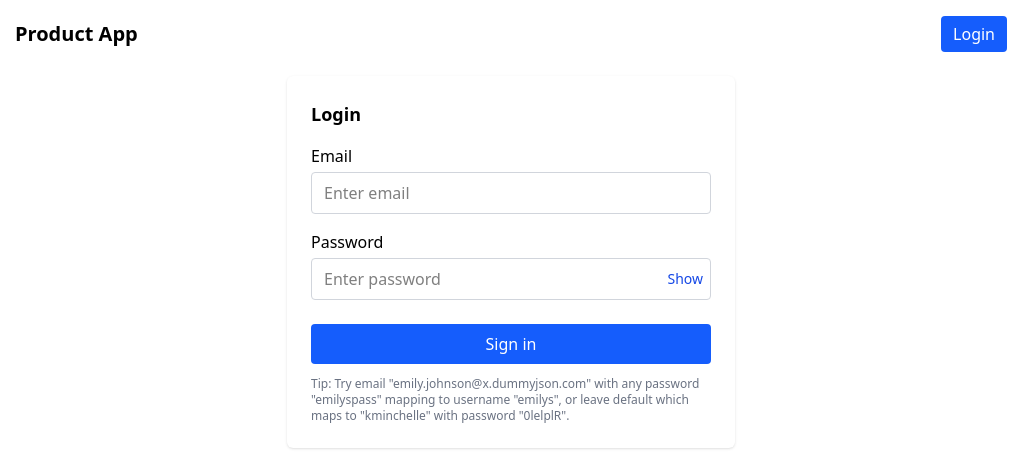
Test case: Login page › toggles password visibility
Type "123456" into the password field named "password" at (511, 279), box 311,258 -> 711,300
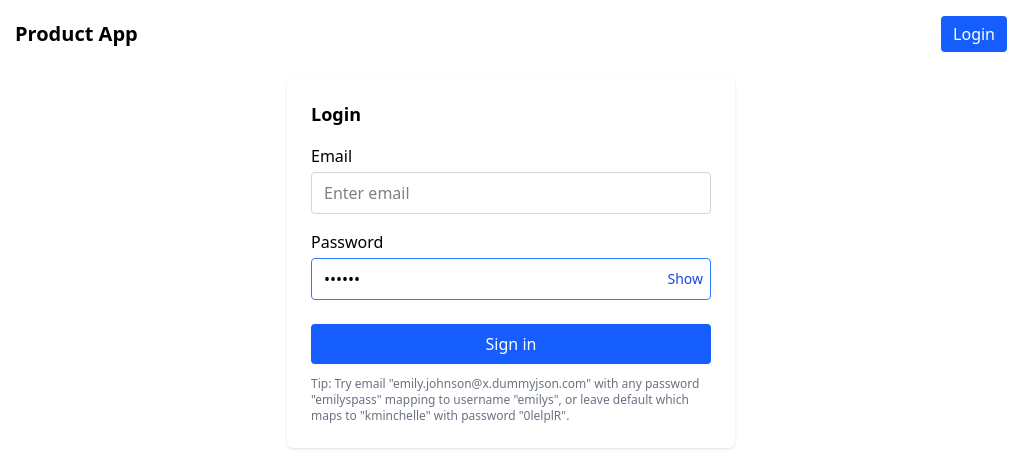
Click the button "Show" at (686, 279), box 668,269 -> 704,289
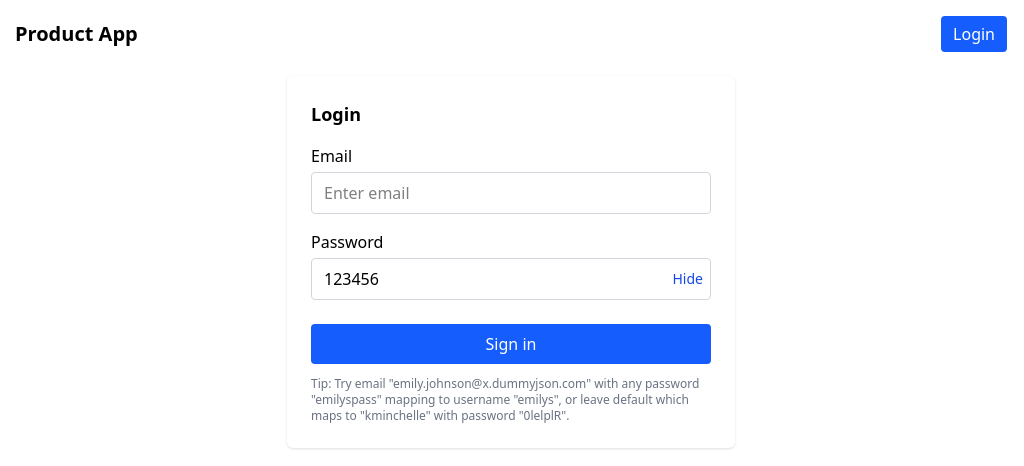
Expected: the field named "password" shows its text, 311,258 -> 711,300
Click the button "Hide" at (689, 279), box 673,269 -> 704,289
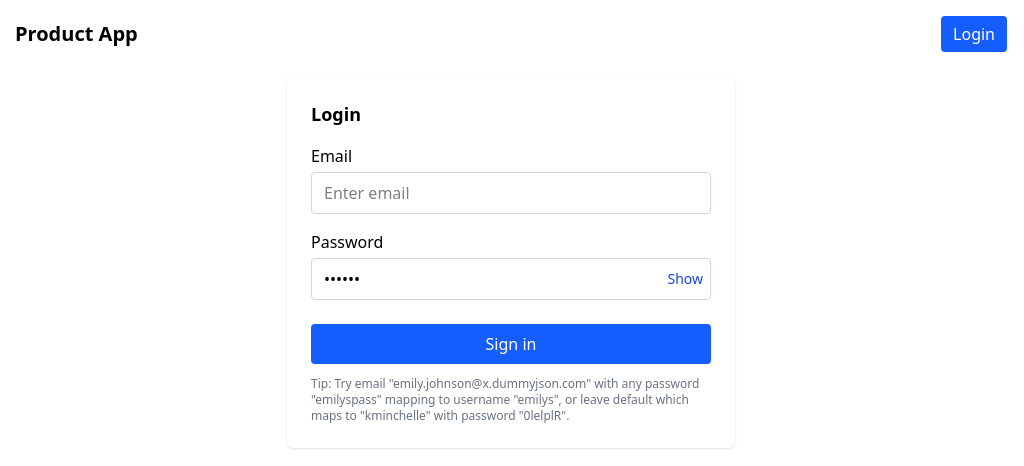
Expected: the password field named "password" hides its text, 311,258 -> 711,300
